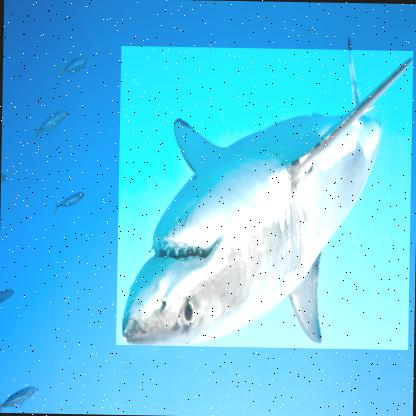white-shark: (116, 44, 414, 350)
